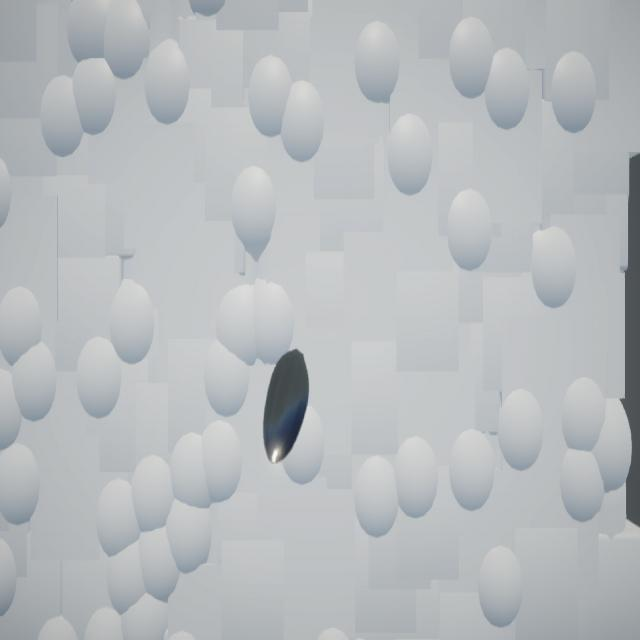top_spoon: (264, 349, 310, 465)
